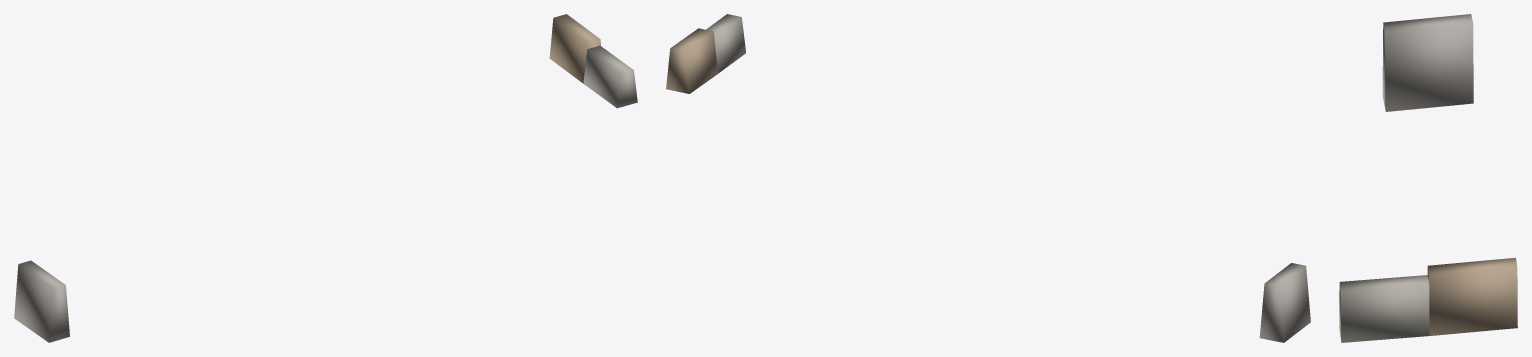
The model's file is farm_-34_-49_collision.glb.
3 views of the same model, side by side, from view 1: azimuth 30°, elevation 25°; view 2: azimuth 150°, elevation 25°; view 3: azimuth 270°, elevation 25° (orthographic). The views are drawn at different scales.
Parts seen in each view (by area): view 1: geometry_0; view 2: geometry_0; view 3: geometry_0.
Part boxes in pixels (x1,y1,x2,y2): geometry_0: [14, 14, 637, 342]; geometry_0: [666, 14, 1310, 342]; geometry_0: [1339, 14, 1517, 342].
Bounding box in the file's own units: 17.12 × 4.44 × 3.15.
